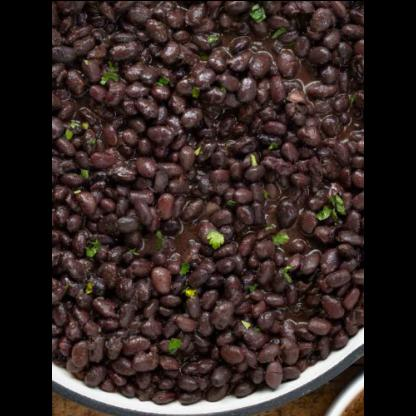black beans: (53, 1, 364, 402)
